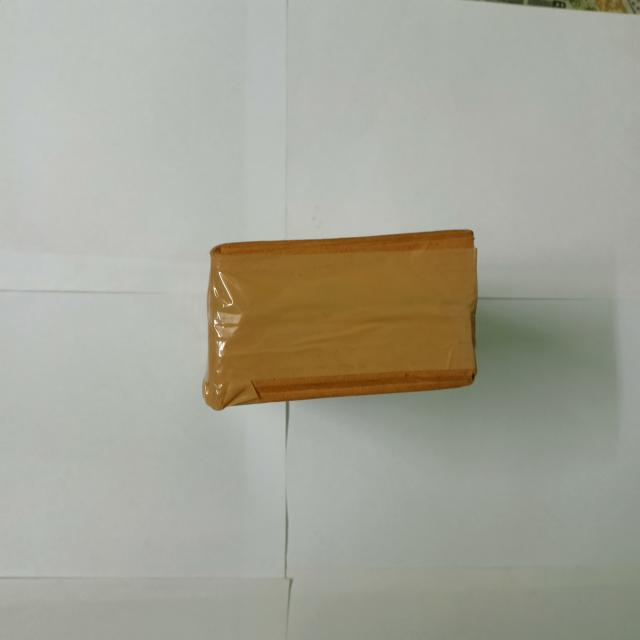box: (202, 231, 480, 415)
